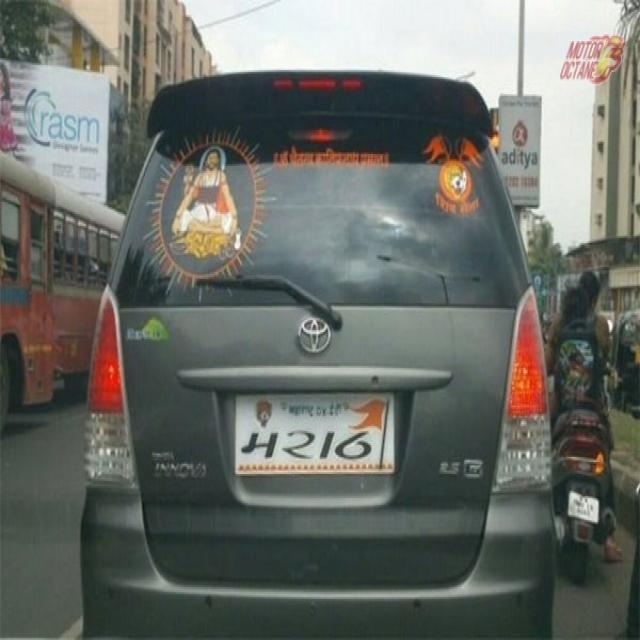plate: (228, 389, 398, 475)
